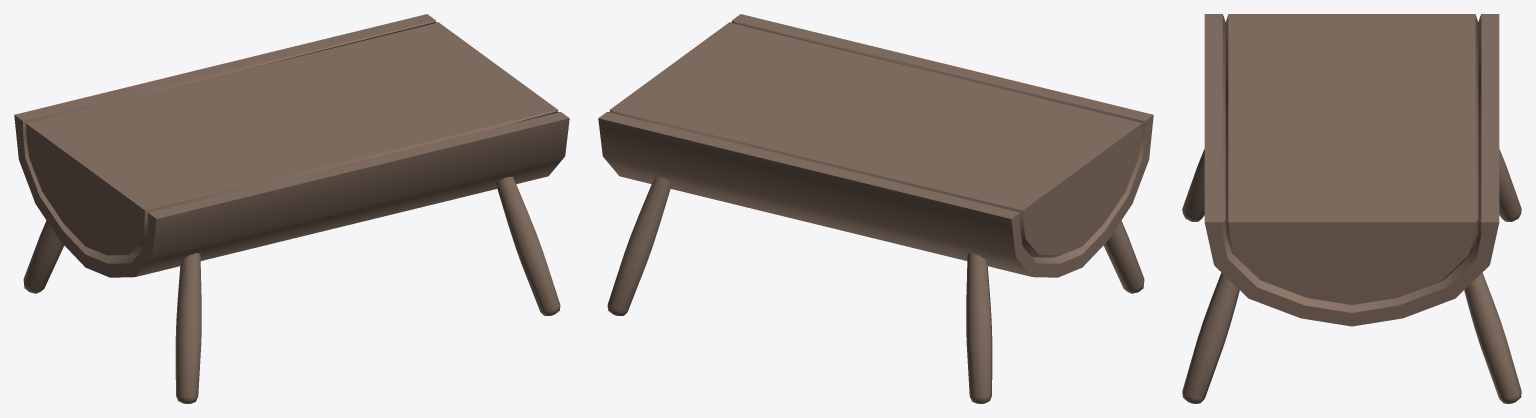
File: Masa.fbx
3 renders of one model, left to right at view 1: azimuth 30°, elevation 25°; view 2: azimuth 150°, elevation 25°; view 3: azimuth 270°, elevation 25°, orthographic. The views are drawn at different scales.
Parts seen in each view (by area): view 1: masa.001; view 2: masa.001; view 3: masa.001.
Part boxes in pixels (x1=…): masa.001: x1=14, y1=14, x2=569, y2=403; masa.001: x1=598, y1=14, x2=1153, y2=403; masa.001: x1=1182, y1=14, x2=1521, y2=403.
Size of the model in its own units: 200 by 86.49 by 138.
